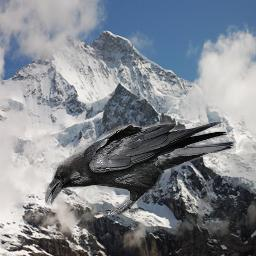Crow: (45, 121, 236, 215)
